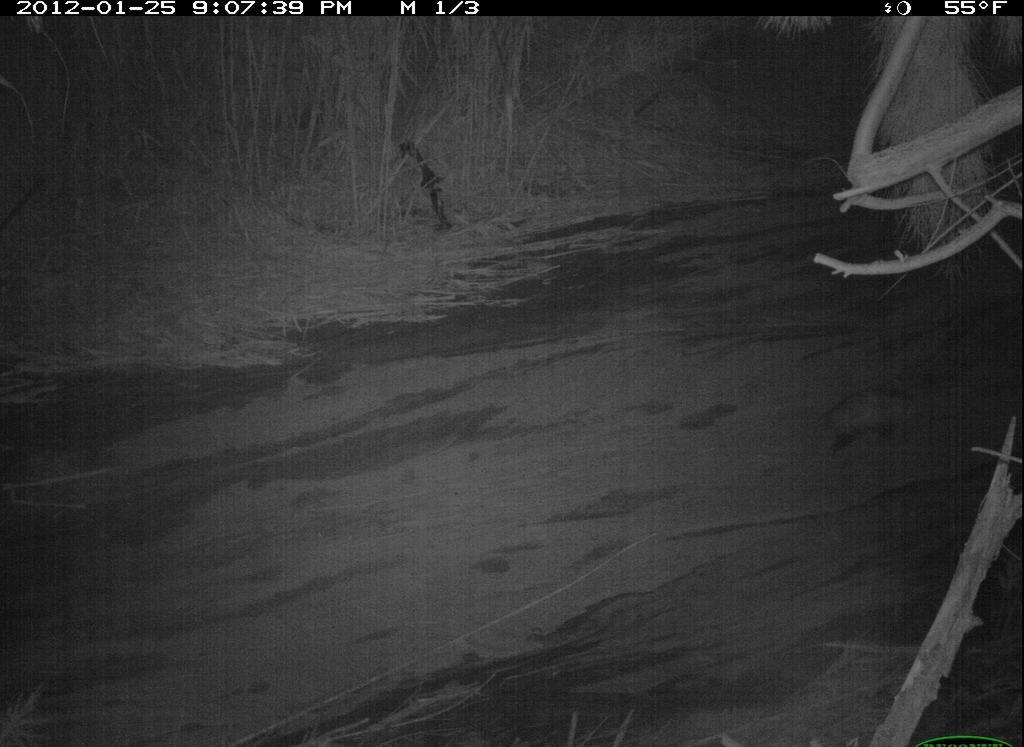opossum: (817, 376, 953, 455)
